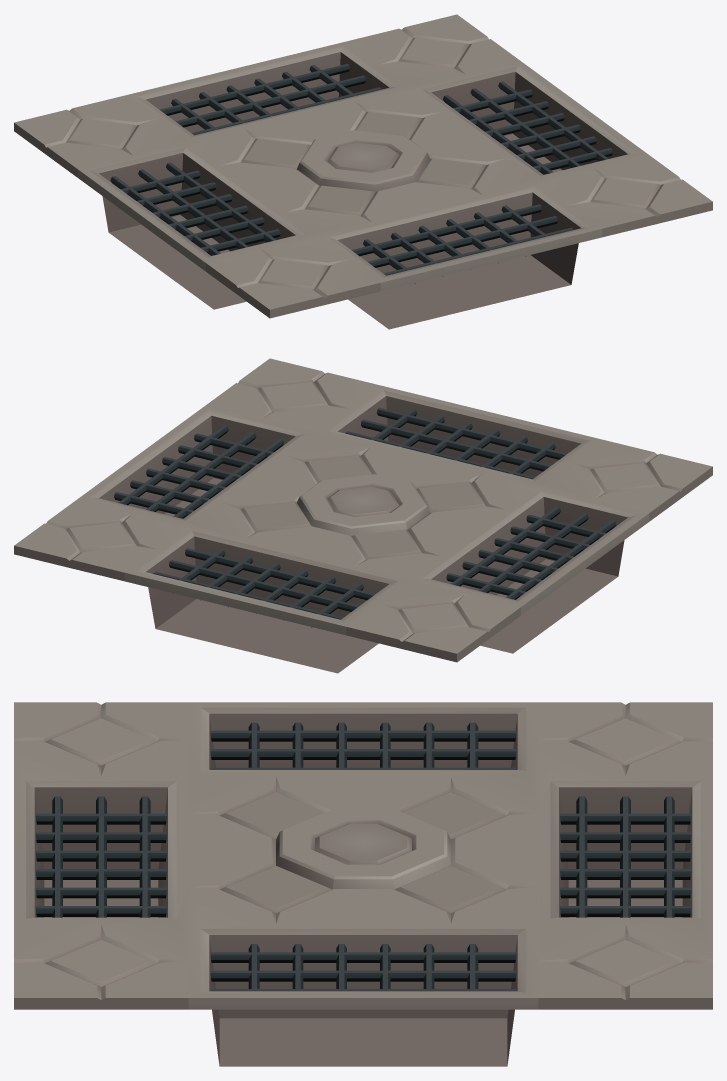
The model's file is floor_tile_extralarge_grates.glb.
3 views of the same model, one above another, from view 1: azimuth 30°, elevation 25°; view 2: azimuth 150°, elevation 25°; view 3: azimuth 270°, elevation 25° (orthographic). The views are drawn at different scales.
Parts seen in each view (by area): view 1: floor_tile_extralarge_grates; view 2: floor_tile_extralarge_grates; view 3: floor_tile_extralarge_grates.
Part boxes in pixels (x1,y1,x2,y2): floor_tile_extralarge_grates: (14,14,712,329); floor_tile_extralarge_grates: (14,358,712,673); floor_tile_extralarge_grates: (14,702,712,1066).
Bounding box in the file's own units: 4 × 0.565 × 4.
1 material, 1 textured.
